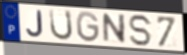7: (156, 15, 178, 49)
G: (75, 10, 101, 44)
J: (25, 9, 45, 39)
N: (102, 13, 127, 45)
S: (128, 14, 154, 48)
U: (48, 8, 74, 42)
